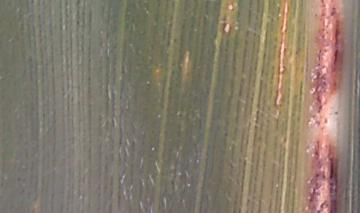tarspot: (222, 128, 229, 139), (177, 111, 182, 118)
